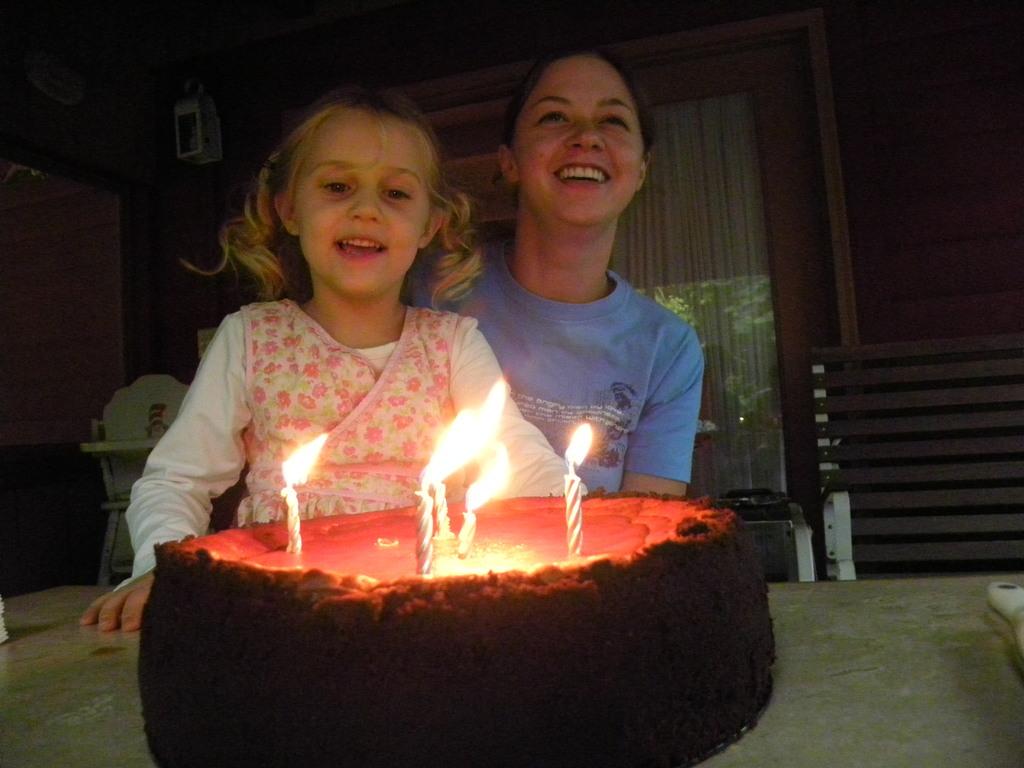cake: (132, 496, 774, 767)
